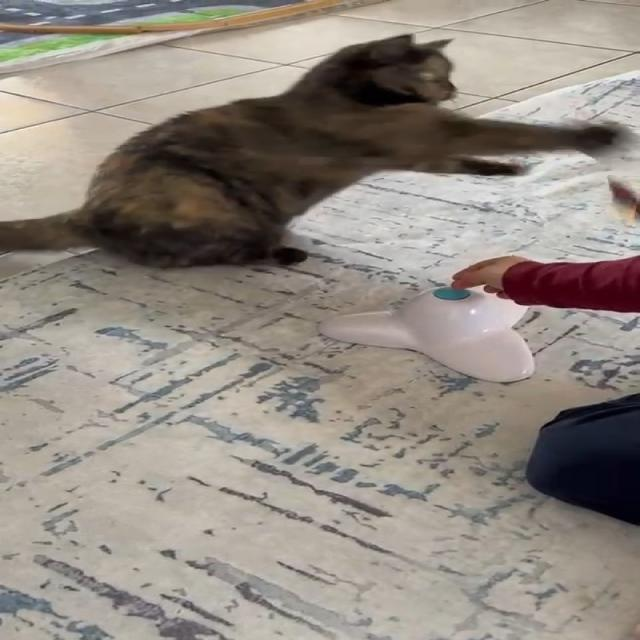authorized: (0, 31, 617, 268)
